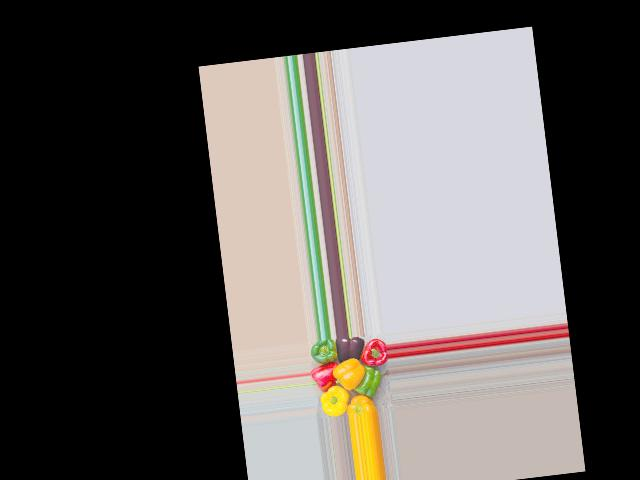bell_pepper: (345, 386, 384, 415)
